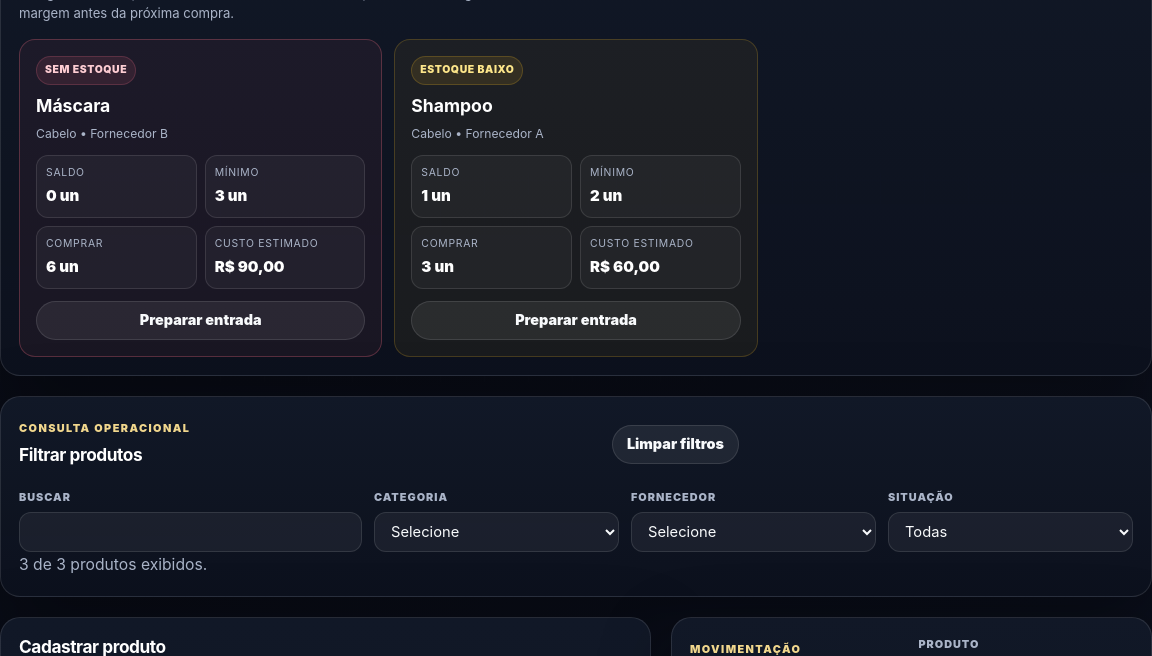
Test case: InventoryOperations › prepara uma entrada usando a quantidade sugerida pelo painel
(page scrolled)
Click the button "Preparar entrada" below "R$ 90,00" at (201, 321), box [36,301,365,340]
(page scrolled)
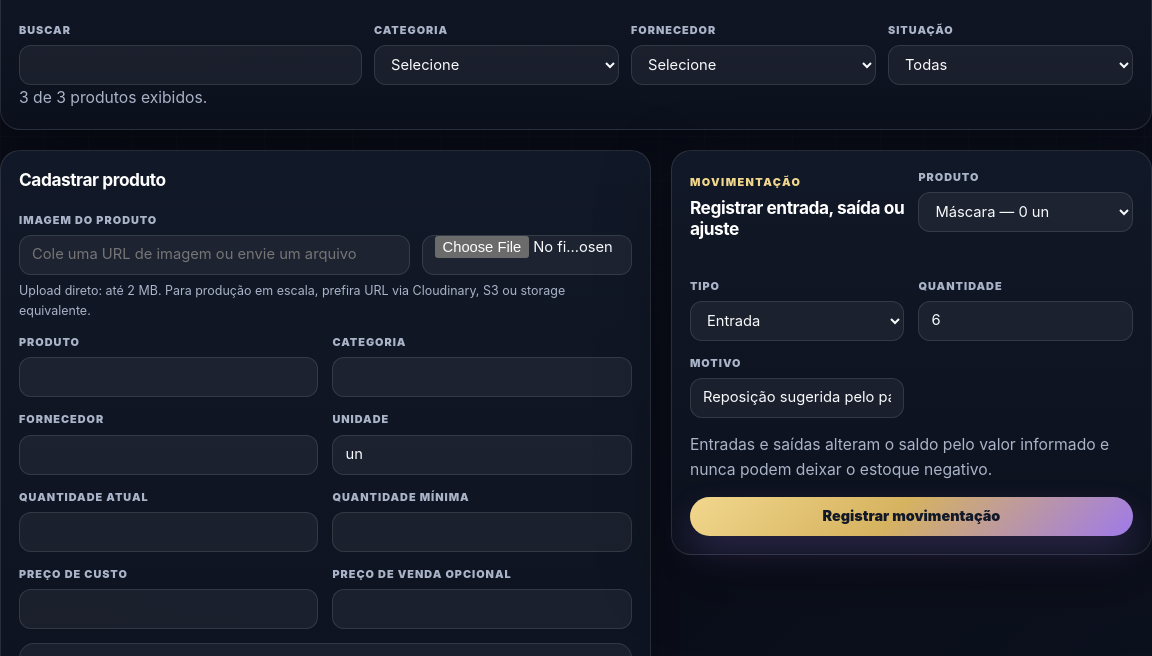
Result: the number field labelled "Quantidade" holds "6" at [918,301,1133,341]
